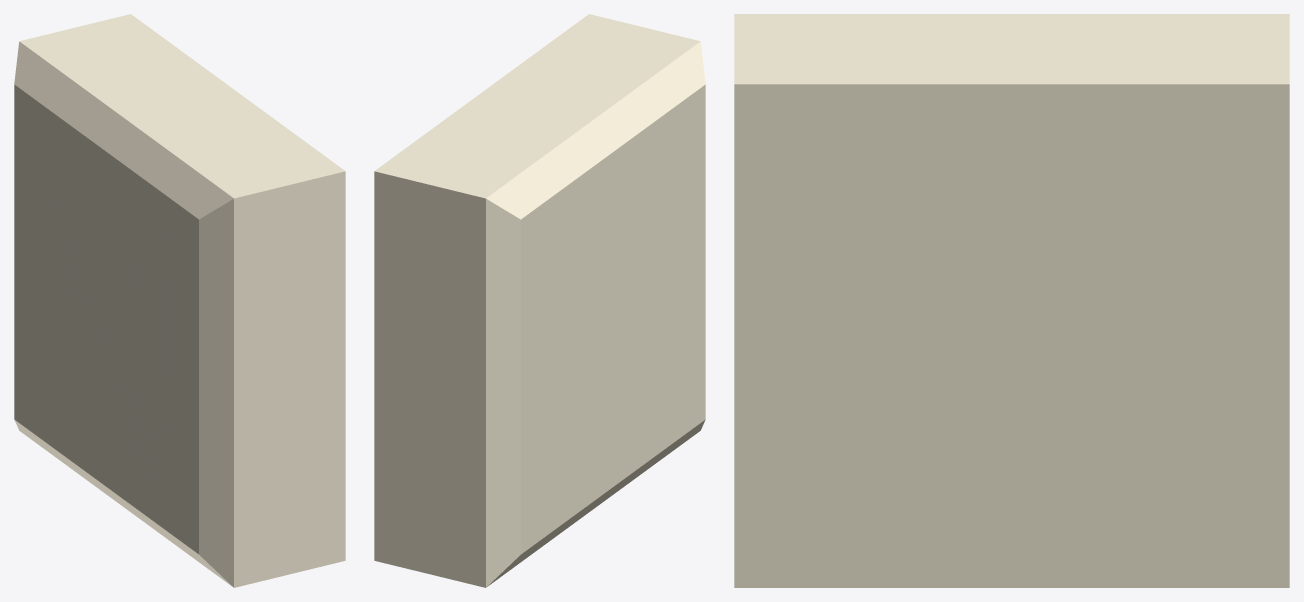
File: Elevator Button.fbx
3 views of the same model, side by side, from view 1: azimuth 30°, elevation 25°; view 2: azimuth 150°, elevation 25°; view 3: azimuth 270°, elevation 25° (orthographic). The views are drawn at different scales.
Visible parts, largest first — view 1: Elevator Button; view 2: Elevator Button; view 3: Elevator Button.
Part boxes in pixels (bbox=[...]): Elevator Button: bbox=[14, 14, 345, 587]; Elevator Button: bbox=[374, 14, 705, 587]; Elevator Button: bbox=[734, 14, 1289, 587].
Bounding box in the file's own units: 1.58 × 4.48 × 4.48.
